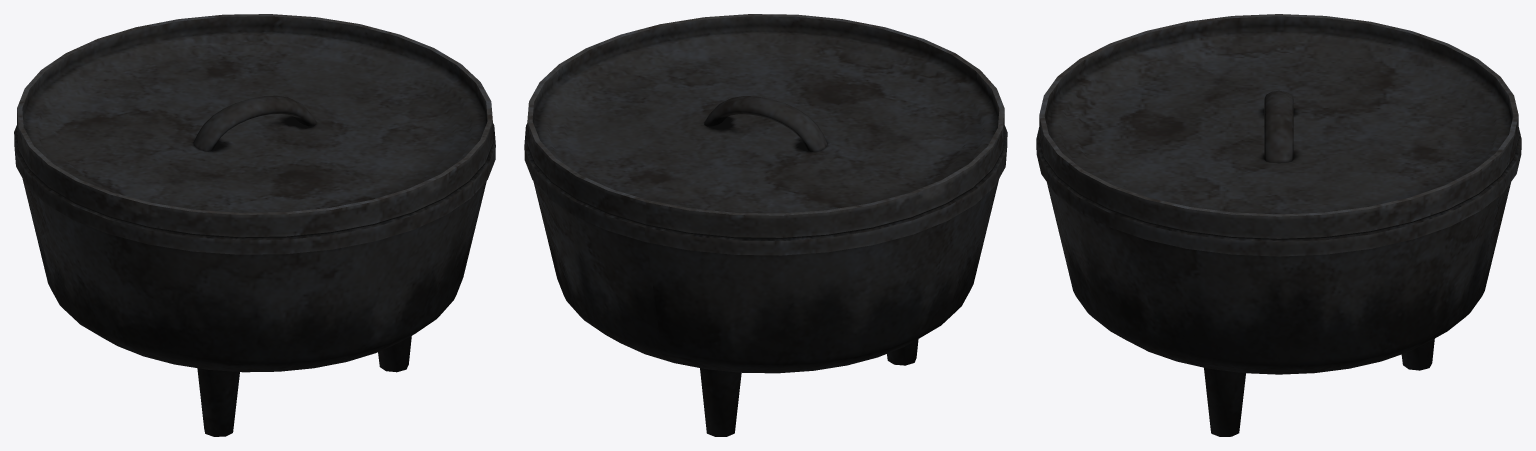
Rendered from DutchOven.fbx.
3 views of the same model, side by side, from view 1: azimuth 30°, elevation 25°; view 2: azimuth 150°, elevation 25°; view 3: azimuth 270°, elevation 25° (orthographic).
Parts seen in each view (by area): view 1: DutchOven; view 2: DutchOven; view 3: DutchOven.
Part boxes in pixels (bbox=[...]): DutchOven: bbox=[14, 14, 495, 436]; DutchOven: bbox=[524, 14, 1007, 436]; DutchOven: bbox=[1036, 14, 1521, 436].
Size of the model in its own units: 0.3185 by 0.2002 by 0.3185.
1 material, 1 textured.
